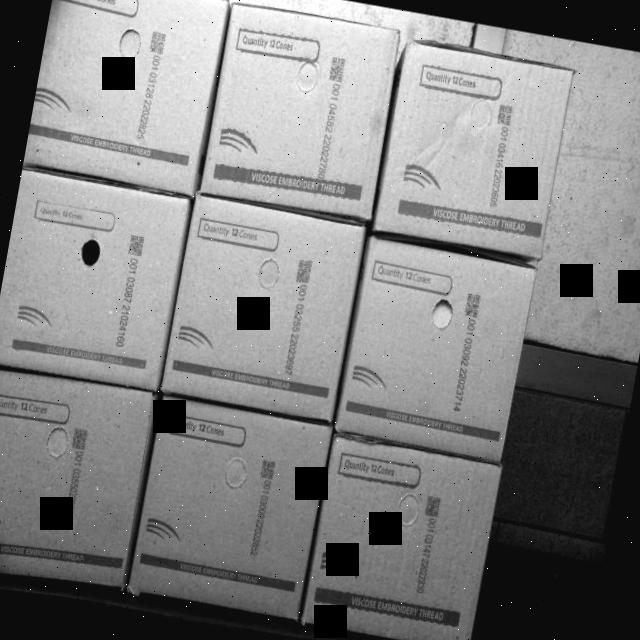box: (122, 393, 332, 632), (372, 34, 576, 264), (198, 0, 403, 227), (342, 234, 542, 462), (164, 197, 368, 420), (303, 427, 508, 640), (0, 172, 192, 389), (22, 0, 230, 199), (0, 365, 162, 605)
